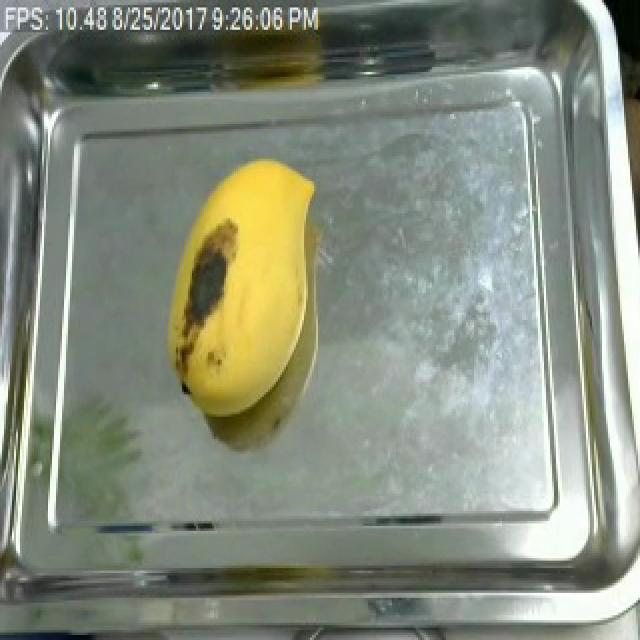fruit: (168, 144, 326, 434)
